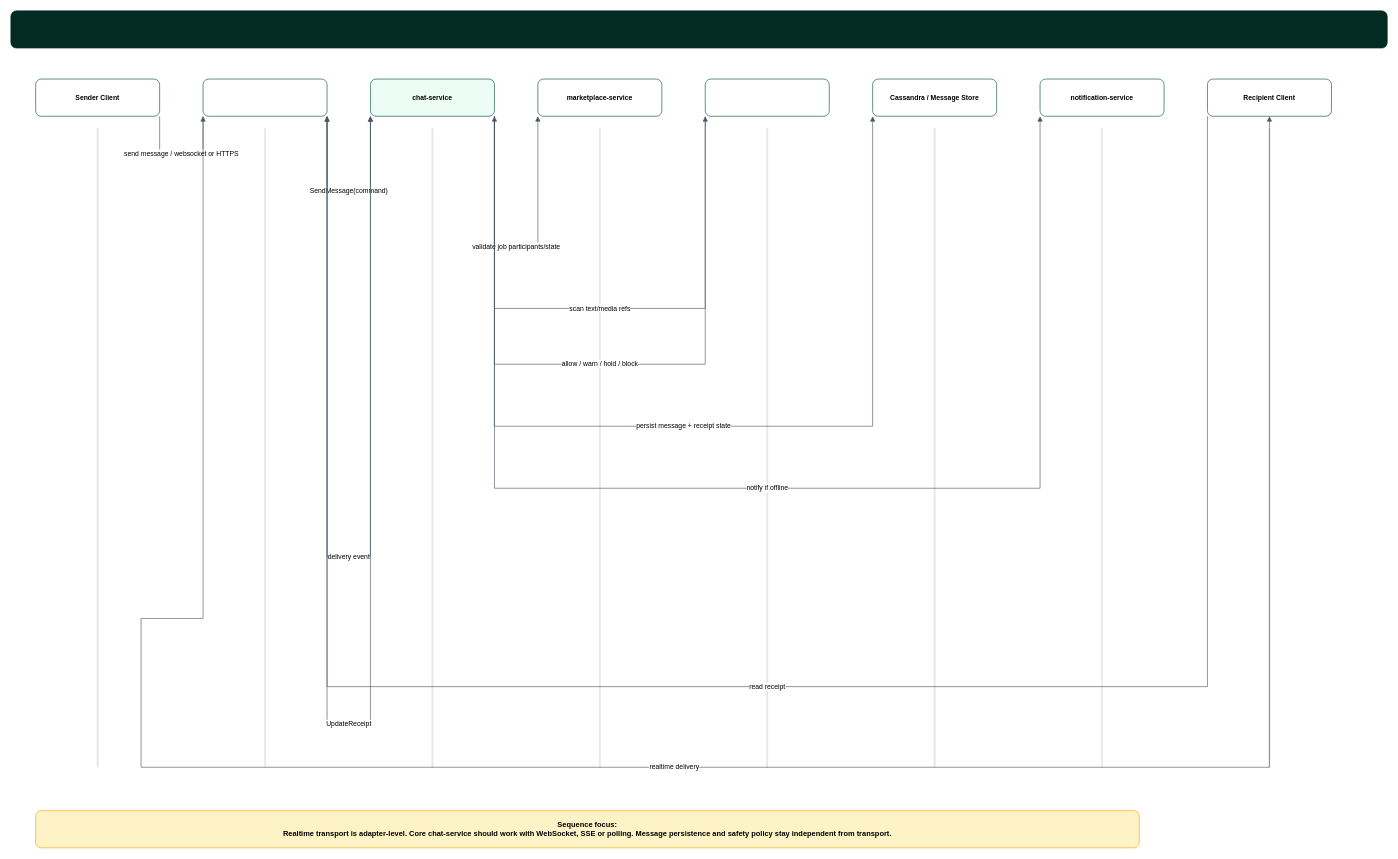
Some shapes in this 1398 by 859 pixel diagram are drawn without their labels. Each missing label, with the centre of its shape:
"API Gateway / Realtime BFF" goes at pixel 264 97.
"safety-service" goes at pixel 767 97.
"Viaverse Chat Message Delivery — Sequence Diagram" goes at pixel 698 29.
